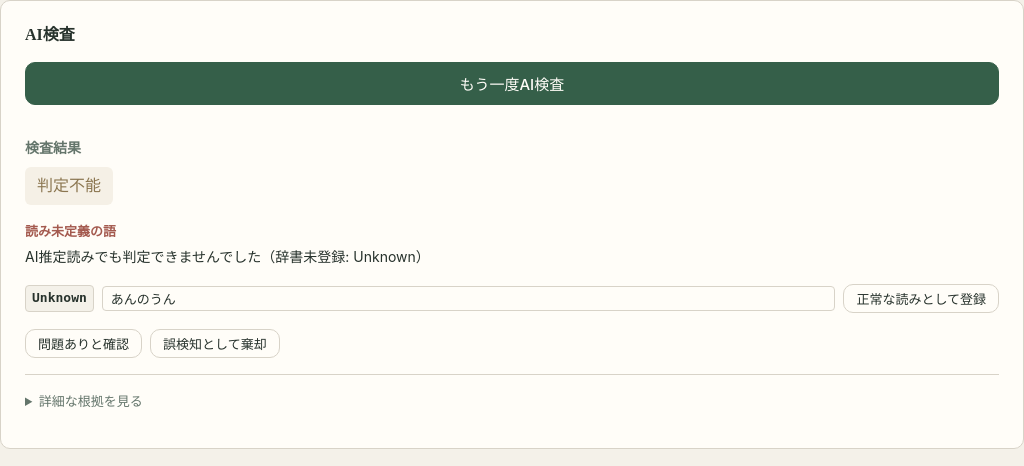
it: ReviewPanel › whitelist registration › disables the register button while the reading is empty
The image size is (1024, 466).
Clear the field named "「Unknown」の読み" at (469,298), box [102,286,835,311]
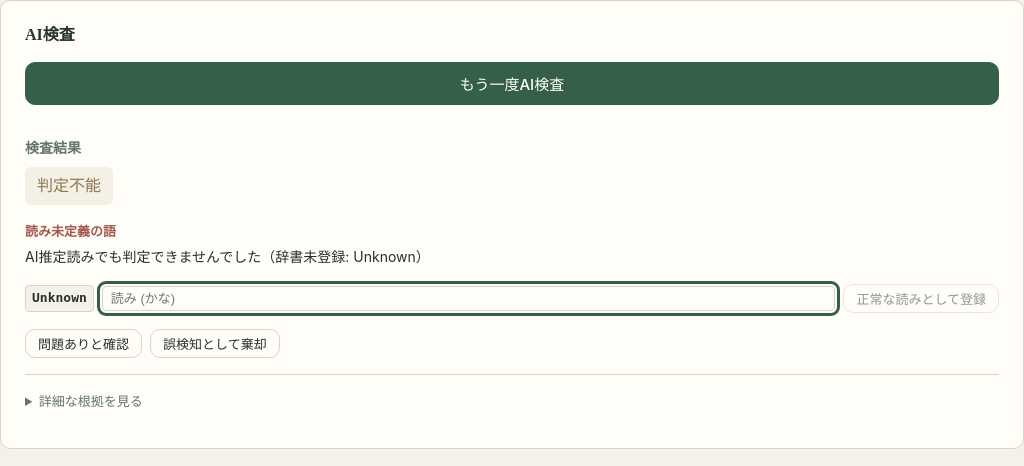
Result: the button with test id "whitelist-add-Unknown" is disabled at [843,284,999,313]
